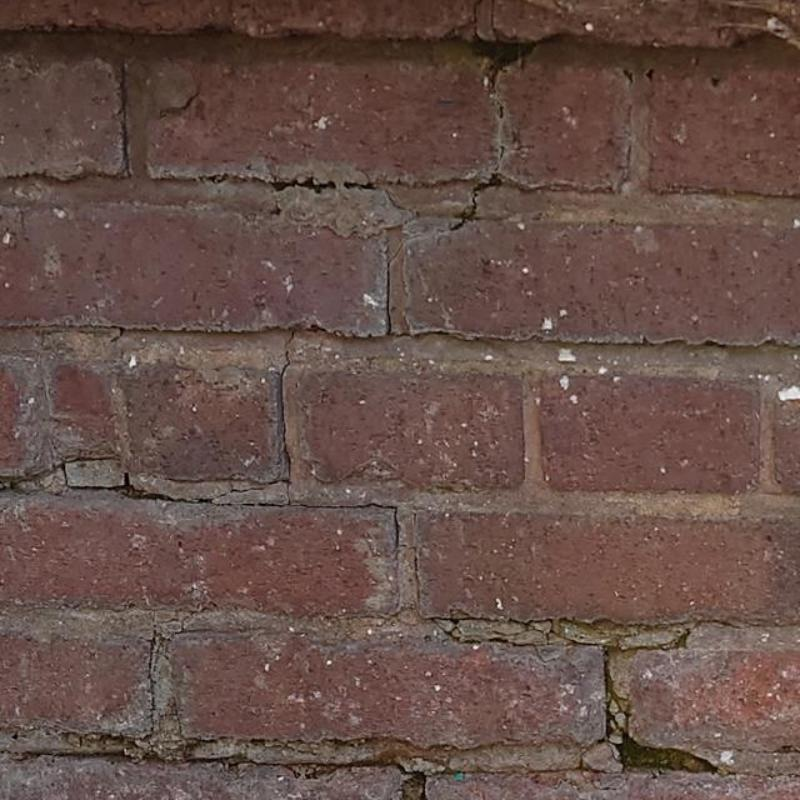pothole: (438, 618, 741, 771), (286, 485, 421, 602), (10, 457, 286, 508), (216, 329, 295, 498), (0, 746, 410, 778), (140, 604, 214, 742), (425, 739, 624, 779), (472, 0, 534, 118), (448, 145, 504, 230), (385, 240, 410, 338), (271, 178, 338, 194), (402, 773, 425, 799), (344, 181, 375, 190)
